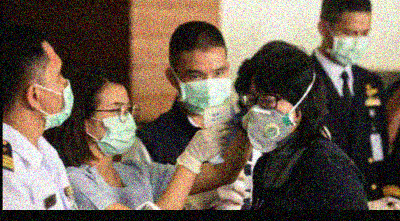with_mask: (240, 88, 292, 152), (177, 61, 232, 115), (92, 98, 137, 158), (41, 61, 73, 129), (329, 24, 368, 64)
